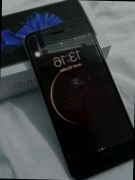iphone: (1, 18, 112, 180)
